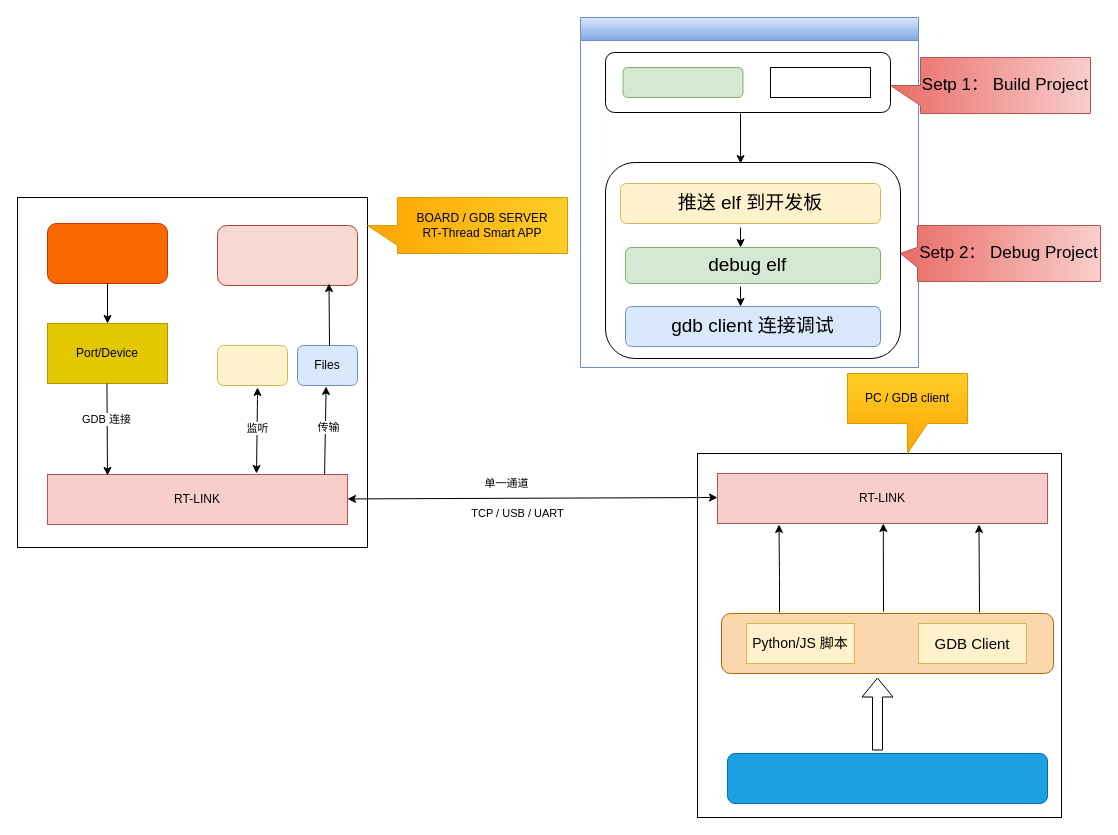
Some shapes in this 1118 by 835 pixel diagram are drawn without their labels. Each missing label, with the box of its shape:
GDB Server: (46, 222, 168, 284)
IDE: (726, 752, 1048, 804)
IDE端 功能实现: (580, 16, 918, 368)
Monitor: (216, 344, 288, 386)
RT-Thread Smart Application: (216, 224, 358, 286)
产物： elf: (770, 66, 870, 98)
编译: (622, 66, 743, 98)
